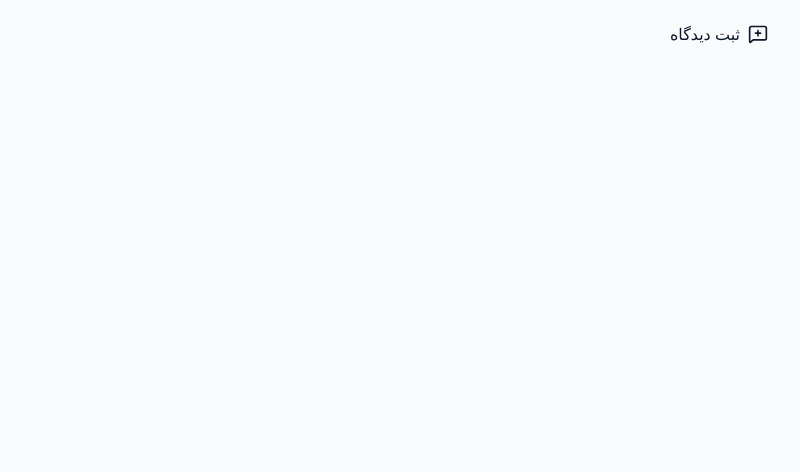
Test: SubjectCommentComposer: a post’s form › the API’s field errors go under their fields, several at once
This screenshot has width=800, height=472.
Click the button "ثبت دیدگاه" at [719, 34], box [650,12,788,56]
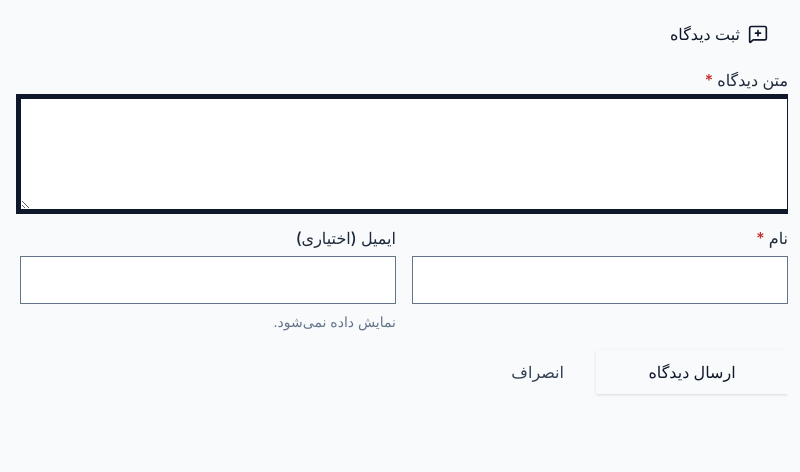
Type "متن" into the text box labelled "متن دیدگاه *" at [404, 154], box [20,98,788,210]
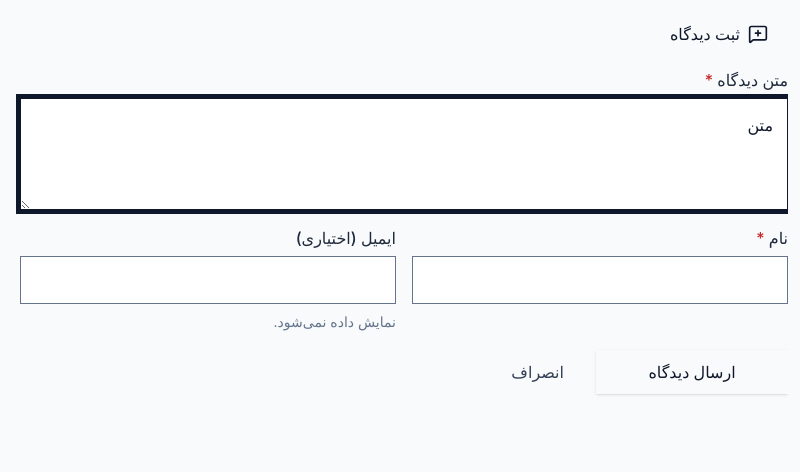
Type "علی" into the field labelled "نام *" at [600, 280], box [413,257,787,303]
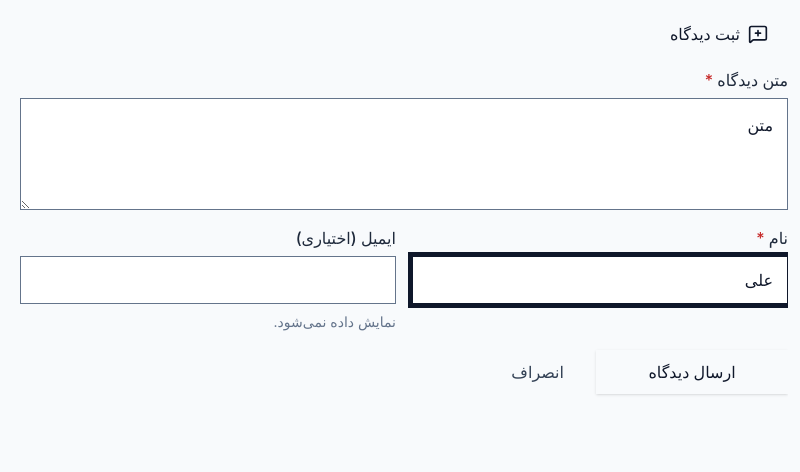
Type "a@b" into the field labelled "ایمیل (اختیاری)" at [208, 280], box [21,257,395,303]
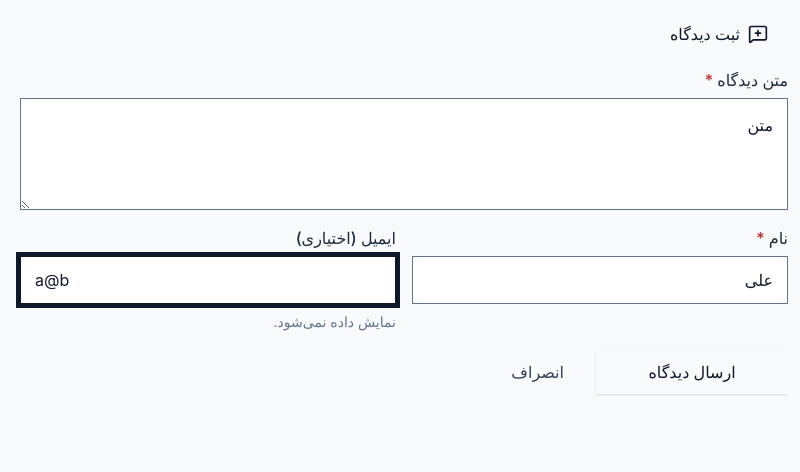
Click the button "ارسال دیدگاه" at [692, 372], box [596,350,788,394]
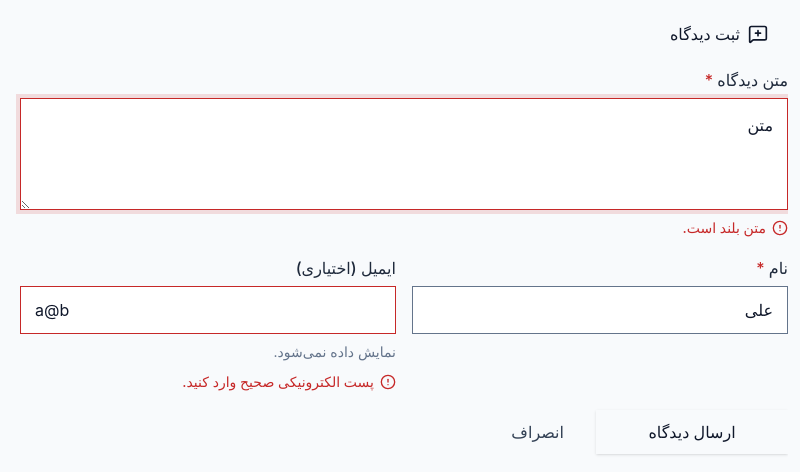
Now the text "متن بلند است." is shown, box [682,216,766,240]
